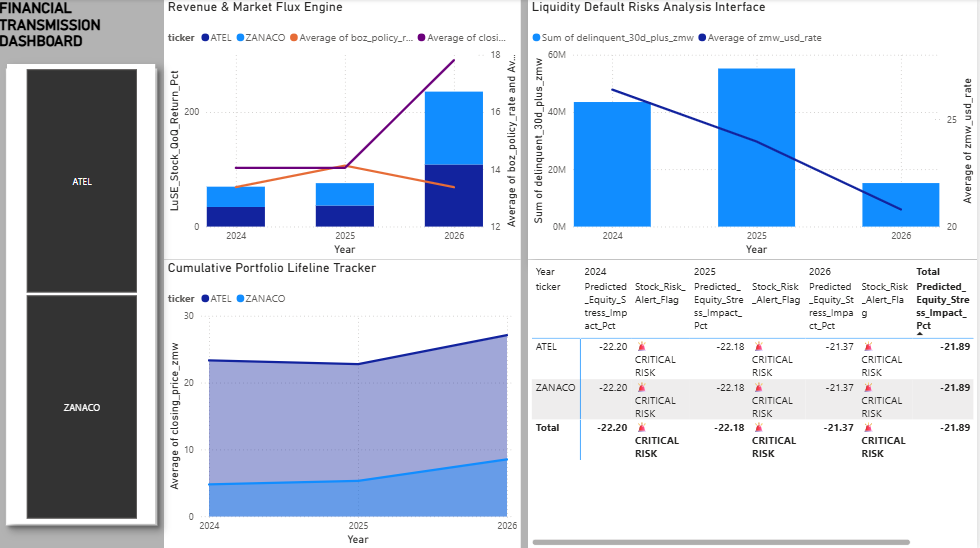

Layout of this report page (visuals, bound fields, positions):
{"tool":"powerbi","page":{"name":"Page 1","canvas":[1280,720],"ordinal":0},"visuals":[{"type":"shape","title":"FINANCIAL TRANSMISSION DASHBOARD","box":[0,0,216,698],"z":0},{"type":"lineStackedColumnComboChart","title":"Revenue & Market Flux Engine","fields":{"Category":["financial_zambian_data.record_date.Variation.Date Hierarchy.Year","financial_zambian_data.record_date.Variation.Date Hierarchy.Quarter","financial_zambian_data.record_date.Variation.Date Hierarchy.Month","financial_zambian_data.record_date.Variation.Date Hierarchy.Day"],"Y":["financial_zambian_data.LuSE_Stock_QoQ_Return_Pct"],"Y2":["Avg(financial_zambian_data.boz_policy_rate)","Avg(financial_zambian_data.closing_price_zmw)"],"Series":["financial_zambian_data.ticker"]},"box":[216,0,466.6,341.3],"z":1000},{"type":"areaChart","title":"Cumulative Portfolio Lifeline Tracker","fields":{"Category":["financial_zambian_data.record_date.Variation.Date Hierarchy.Year","financial_zambian_data.record_date.Variation.Date Hierarchy.Quarter","financial_zambian_data.record_date.Variation.Date Hierarchy.Month","financial_zambian_data.record_date.Variation.Date Hierarchy.Day"],"Y":["Avg(financial_zambian_data.closing_price_zmw)"],"Series":["financial_zambian_data.ticker"]},"box":[216,341.3,467,379],"z":2000},{"type":"lineStackedColumnComboChart","title":"Liquidity Default Risks Analysis Interface","fields":{"Category":["financial_zambian_data.record_date.Variation.Date Hierarchy.Year","financial_zambian_data.record_date.Variation.Date Hierarchy.Quarter","financial_zambian_data.record_date.Variation.Date Hierarchy.Month","financial_zambian_data.record_date.Variation.Date Hierarchy.Day"],"Y":["Sum(financial_zambian_data.delinquent_30d_plus_zmw)"],"Y2":["Avg(financial_zambian_data.zmw_usd_rate)"]},"box":[692.6,0,587.5,341.3],"z":3000},{"type":"pivotTable","fields":{"Rows":["financial_zambian_data.ticker"],"Columns":["financial_zambian_data.record_date.Variation.Date Hierarchy.Year","financial_zambian_data.record_date.Variation.Date Hierarchy.Quarter","financial_zambian_data.record_date.Variation.Date Hierarchy.Month","financial_zambian_data.record_date.Variation.Date Hierarchy.Day"],"Values":["financial_zambian_data.Predicted_Equity_Stress_Impact_Pct","financial_zambian_data.Stock_Risk_Alert_Flag"]},"box":[692.6,341.3,587.5,378.7],"z":4000},{"type":"slicer","fields":{"Values":["financial_zambian_data.ticker"]},"box":[10.1,85,194.4,601.9],"z":5000}]}

Visuals, with their boxes in screenshot pixels (x1, y1, x2, y2), scaled from the page's 1280x720 canvas onto the 980x548 screenshot:
"FINANCIAL TRANSMISSION DASHBOARD" shape: (0,0,165,531)
"Revenue & Market Flux Engine" lineStackedColumnComboChart: (165,0,523,260)
"Cumulative Portfolio Lifeline Tracker" areaChart: (165,260,523,547)
"Liquidity Default Risks Analysis Interface" lineStackedColumnComboChart: (530,0,979,260)
pivotTable - financial_zambian_data.ticker x financial_zambian_data.record_date.Variation.Date Hierarchy.Year: (530,260,979,547)
slicer - financial_zambian_data.ticker: (8,65,157,523)
